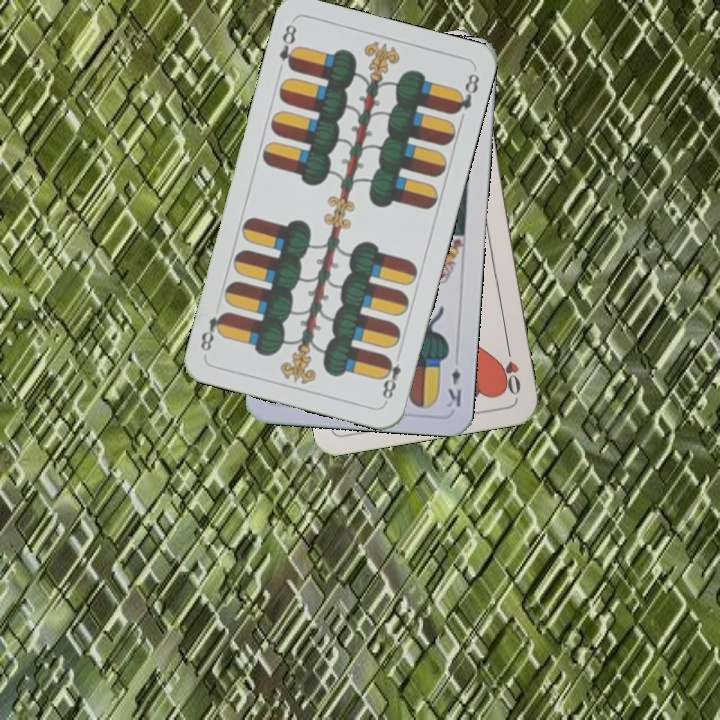E8: (377, 347, 404, 405), (275, 20, 301, 73)
EK: (443, 364, 464, 410)
HO: (497, 340, 523, 398)
